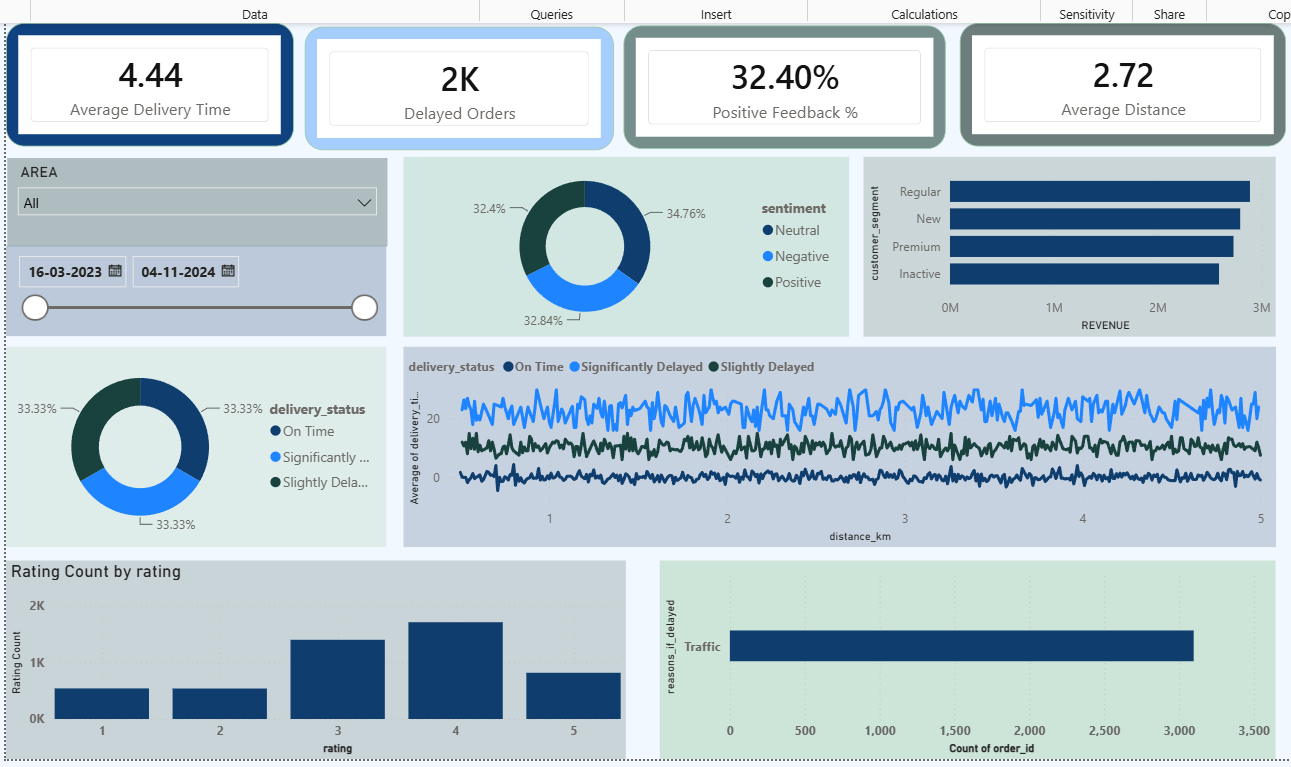

The page's visual inventory and layout, read from the dashboard file:
{"tool":"powerbi","page":{"name":"CUSTOMER AND DELIVERY DASHBOARD","canvas":[1280,720],"ordinal":1},"visuals":[{"type":"cardVisual","fields":{"Data":["public delivery_performance.Average Delivery Time"]},"box":[0,0,281.3,121.1],"z":0},{"type":"cardVisual","fields":{"Data":["public delivery_performance.Delayed Orders"]},"box":[292.3,3.7,302,121.1],"z":1000},{"type":"cardVisual","fields":{"Data":["public customer_feedback.Positive Feedback %"]},"box":[604.1,2.4,315.5,121.1],"z":2000},{"type":"cardVisual","fields":{"Data":["public delivery_performance.Average Distance"]},"box":[933,0,319.2,121.1],"z":3000},{"type":"donutChart","fields":{"Category":["public delivery_performance.delivery_status"],"Y":["Count(public orders.order_id)"]},"box":[0,317,371.9,196.2],"z":4000},{"type":"clusteredColumnChart","fields":{"Category":["public customer_feedback.rating"],"Y":["public customer_feedback.Rating Count"]},"box":[0,525.6,606.5,194.9],"z":5000},{"type":"donutChart","fields":{"Category":["public customer_feedback.sentiment"],"Y":["CountNonNull(public customer_feedback.feedback_id)"]},"box":[388.3,130.4,436.4,175.6],"z":6000},{"type":"lineChart","fields":{"Y":["Avg(public delivery_performance.delivery_time_minutes)"],"Category":["public delivery_performance.distance_km"],"Series":["public delivery_performance.delivery_status"]},"box":[388.3,317,853.5,196.2],"z":7000},{"type":"clusteredBarChart","fields":{"Category":["public customers.customer_segment"],"Y":["public orders.REVENUE"]},"box":[838.4,130.4,403.4,175.6],"z":8000},{"type":"slicer","fields":{"Values":["public customers.area"]},"box":[1.4,131.7,371.9,86.4],"z":9000},{"type":"slicer","fields":{"Values":["public orders.order_date"]},"box":[0,218.2,371.9,89.2],"z":10000},{"type":"clusteredBarChart","fields":{"Category":["public delivery_performance.reasons_if_delayed"],"Y":["CountNonNull(public delivery_performance.order_id)"]},"box":[639.5,525.6,602.4,194.9],"z":11000}]}

Visuals, with their boxes on the page's 1280x720 design canvas (x1, y1, x2, y2). These are canvas units, not pixel positions in the 1291x767 screenshot, which may show the page scaled, cropped or inside an application window:
cardVisual - public delivery_performance.Average Delivery Time: (x1=0, y1=0, x2=281, y2=121)
cardVisual - public delivery_performance.Delayed Orders: (x1=292, y1=4, x2=594, y2=125)
cardVisual - public customer_feedback.Positive Feedback %: (x1=604, y1=2, x2=920, y2=124)
cardVisual - public delivery_performance.Average Distance: (x1=933, y1=0, x2=1252, y2=121)
donutChart - public delivery_performance.delivery_status x Count(public orders.order_id): (x1=0, y1=317, x2=372, y2=513)
clusteredColumnChart - public customer_feedback.rating x public customer_feedback.Rating Count: (x1=0, y1=526, x2=606, y2=720)
donutChart - public customer_feedback.sentiment x CountNonNull(public customer_feedback.feedback_id): (x1=388, y1=130, x2=825, y2=306)
lineChart - Avg(public delivery_performance.delivery_time_minutes) x public delivery_performance.distance_km: (x1=388, y1=317, x2=1242, y2=513)
clusteredBarChart - public customers.customer_segment x public orders.REVENUE: (x1=838, y1=130, x2=1242, y2=306)
slicer - public customers.area: (x1=1, y1=132, x2=373, y2=218)
slicer - public orders.order_date: (x1=0, y1=218, x2=372, y2=307)
clusteredBarChart - public delivery_performance.reasons_if_delayed x CountNonNull(public delivery_performance.order_id): (x1=640, y1=526, x2=1242, y2=720)
